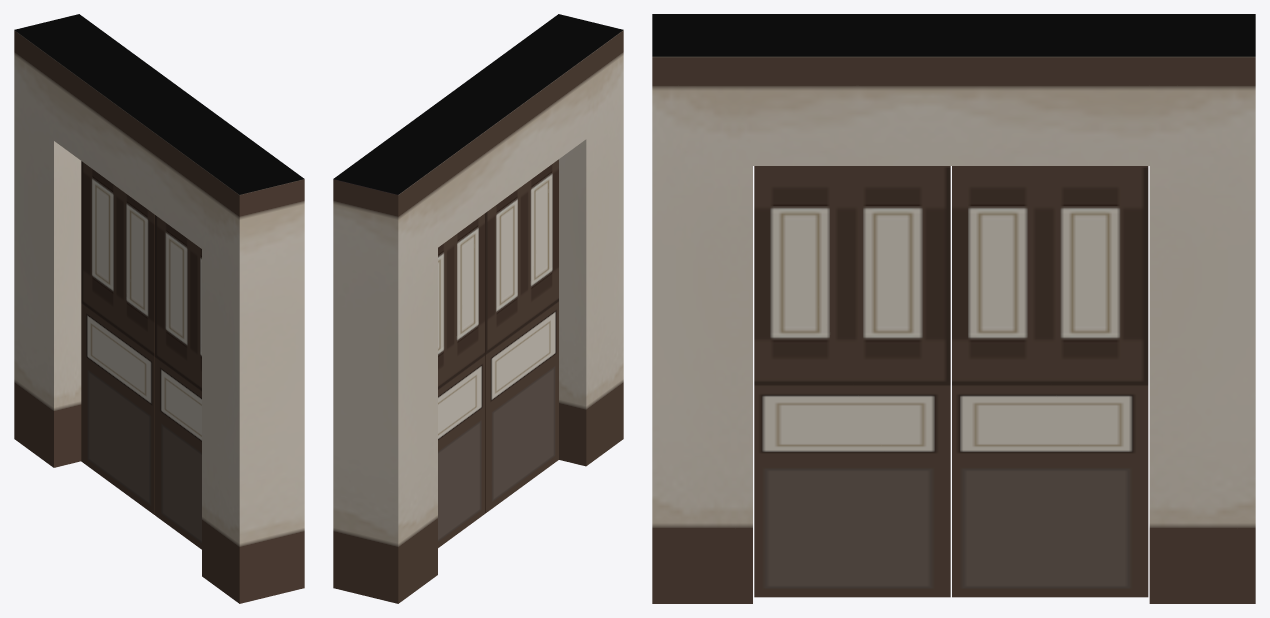
The model's file is lvl 1 door.fbx.
3 renders of one model, left to right at view 1: azimuth 30°, elevation 25°; view 2: azimuth 150°, elevation 25°; view 3: azimuth 270°, elevation 25°, orthographic. The views are drawn at different scales.
Parts seen in each view (by area): view 1: lvl 1 Door, lvl 1 Door.002, lvl 1 Door.001; view 2: lvl 1 Door, lvl 1 Door.001, lvl 1 Door.002; view 3: lvl 1 Door, lvl 1 Door.001, lvl 1 Door.002.
Part boxes in pixels (left/top/right/bottom): lvl 1 Door: left=14, top=14, right=304, bottom=603; lvl 1 Door.002: left=81, top=161, right=154, bottom=514; lvl 1 Door.001: left=155, top=215, right=201, bottom=549; lvl 1 Door: left=333, top=14, right=623, bottom=603; lvl 1 Door.001: left=485, top=159, right=558, bottom=513; lvl 1 Door.002: left=438, top=213, right=484, bottom=547; lvl 1 Door: left=652, top=14, right=1255, bottom=603; lvl 1 Door.001: left=754, top=166, right=950, bottom=597; lvl 1 Door.002: left=952, top=166, right=1148, bottom=597.
Size of the model in its own units: 100 by 600 by 600.
